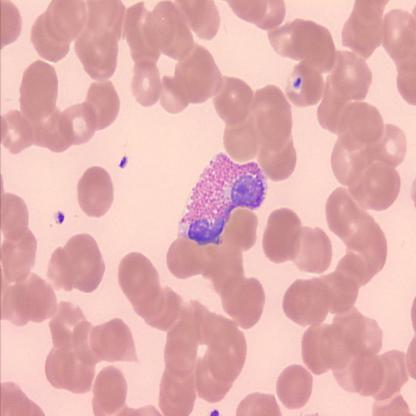Eosinophil: (183, 150, 267, 244)
